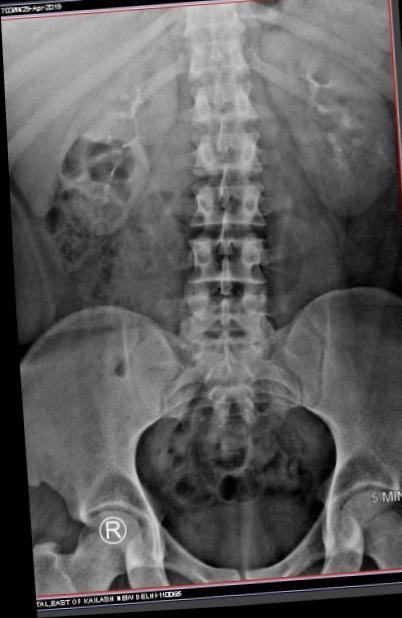vertebrae: (200, 56, 279, 113)
